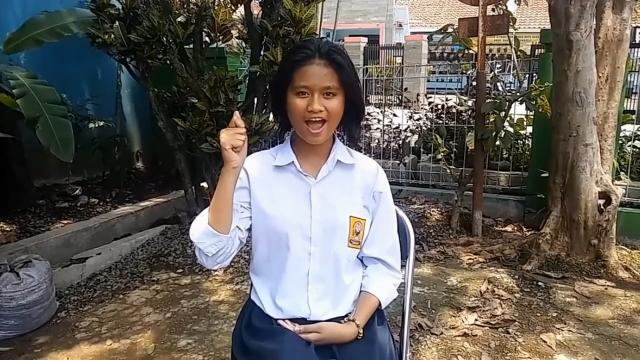A: (220, 108, 250, 170)
